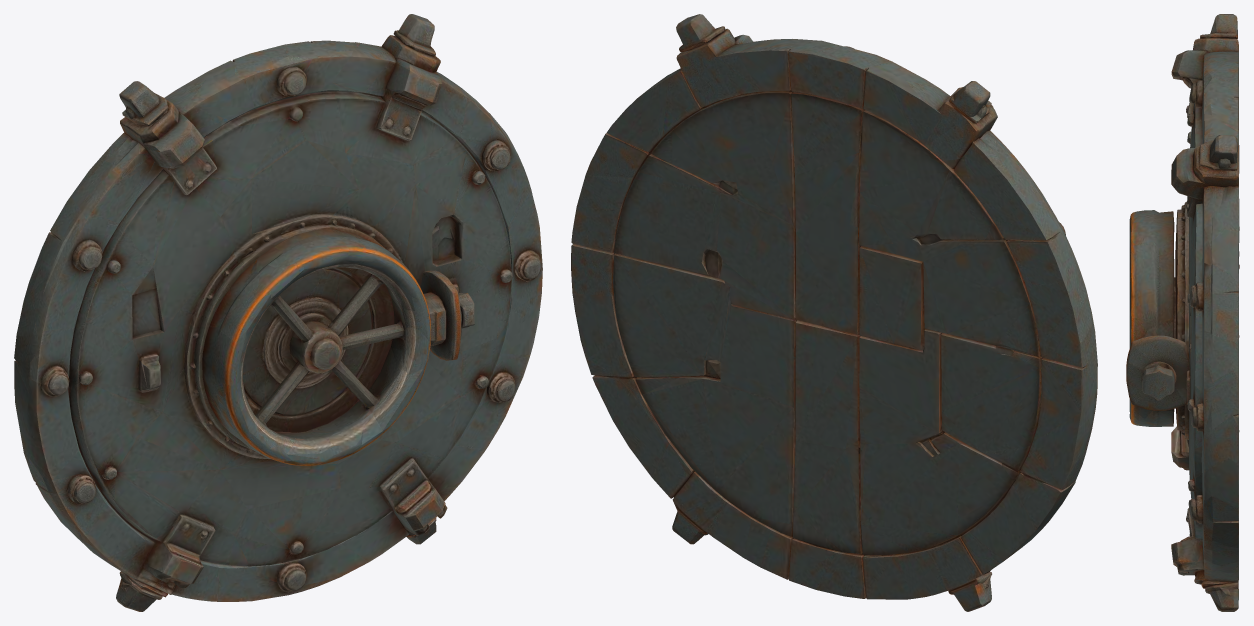
The model's file is portello.glb.
3 renders of one model, left to right at view 1: azimuth 30°, elevation 25°; view 2: azimuth 150°, elevation 25°; view 3: azimuth 270°, elevation 25°, orthographic. The views are drawn at different scales.
Parts seen in each view (by area): view 1: Mesh_0; view 2: Mesh_0; view 3: Mesh_0.
Boxes of the visible parts, x1,y1,x2,y2 form: Mesh_0: (14,14,542,611); Mesh_0: (571,14,1097,611); Mesh_0: (1126,14,1239,611).
Size of the model in its own units: 1.89 by 1.9 by 0.4013.
1 material, 1 textured.
